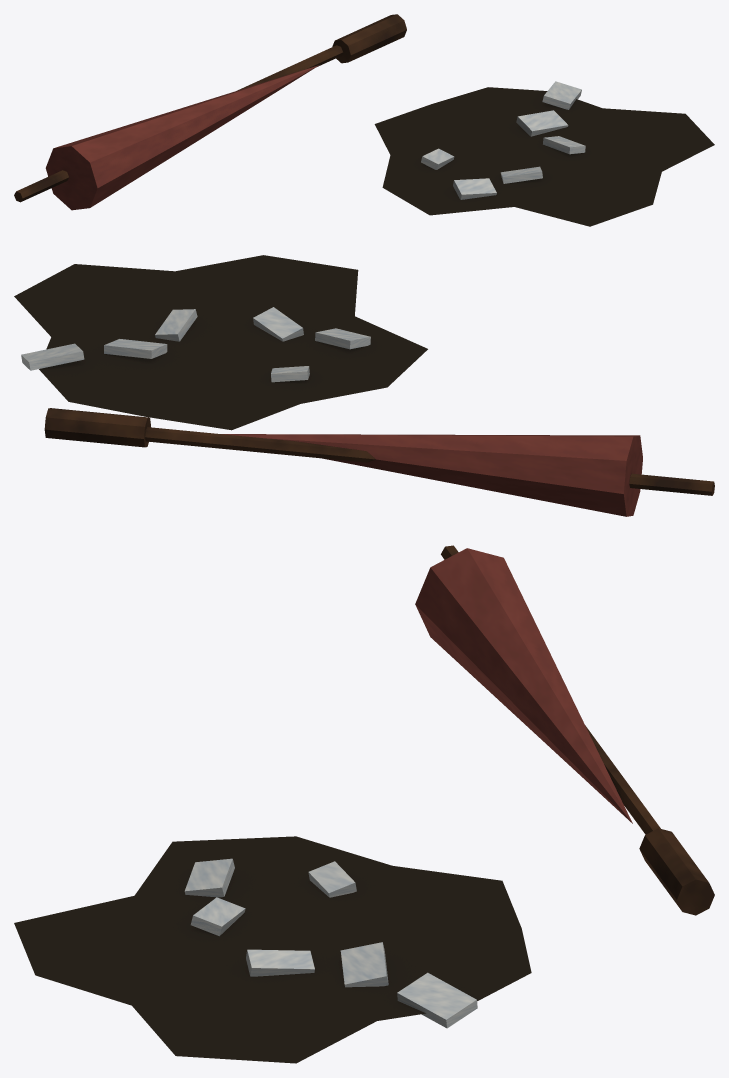
The model's file is trace_lin.glb.
3 renders of one model, top to bottom at view 1: azimuth 30°, elevation 25°; view 2: azimuth 150°, elevation 25°; view 3: azimuth 270°, elevation 25°, orthographic. The views are drawn at different scales.
Parts seen in each view (by area): view 1: trace_lin; view 2: trace_lin; view 3: trace_lin.
Part boxes in pixels (x1,y1,x2,y2): trace_lin: (14, 14, 714, 226); trace_lin: (14, 255, 714, 516); trace_lin: (14, 545, 714, 1063).
Bounding box in the file's own units: 1.21 × 0.1264 × 0.773.
Materials: 4 (4 with a texture image).
